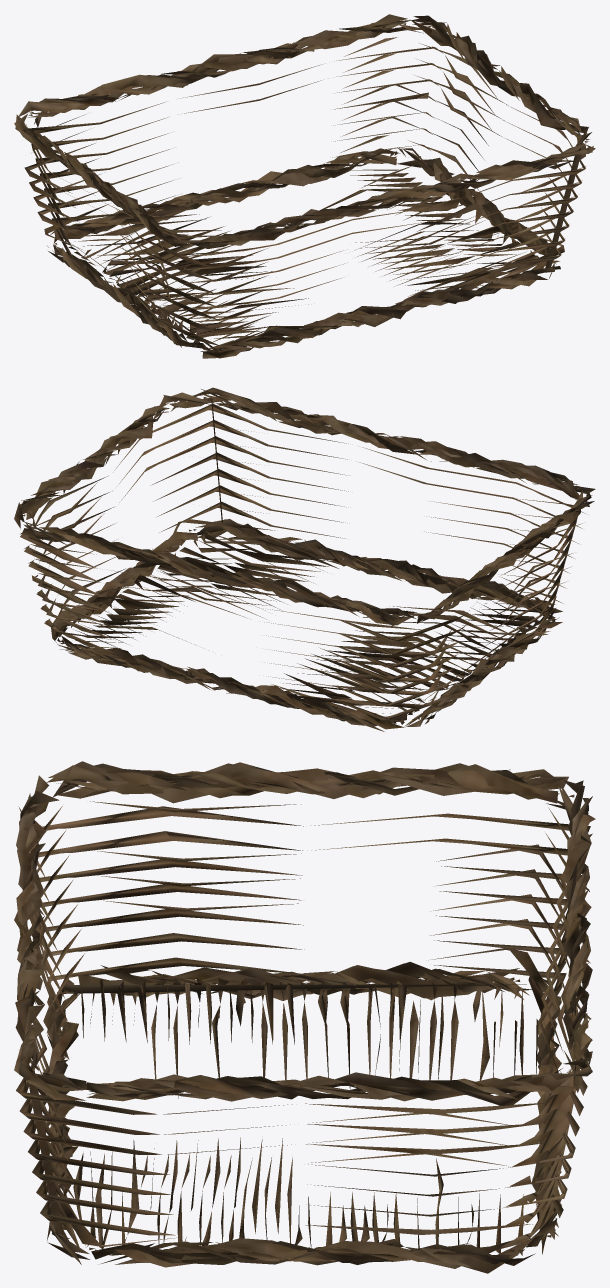
The model's file is isl_basket.glb.
The picture shows the model from 3 angles, top to bottom: view 1: azimuth 30°, elevation 25°; view 2: azimuth 150°, elevation 25°; view 3: azimuth 270°, elevation 25°; orthographic projection. The views are drawn at different scales.
Visible parts, largest first — view 1: wicker_basket_01; view 2: wicker_basket_01; view 3: wicker_basket_01.
Boxes of the visible parts, x1,y1,x2,y2 form: wicker_basket_01: (14, 14, 595, 358); wicker_basket_01: (14, 387, 595, 731); wicker_basket_01: (14, 761, 595, 1273).
Size of the model in its own units: 0.3835 by 0.1218 by 0.2931.
1 material, 1 textured.
